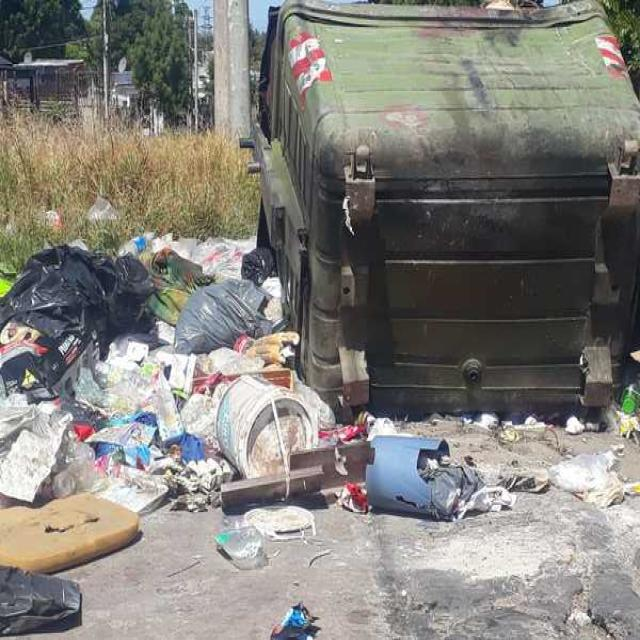garbage: (0, 240, 310, 638), (306, 394, 625, 532), (618, 351, 639, 546), (80, 192, 128, 240), (28, 194, 69, 244)
